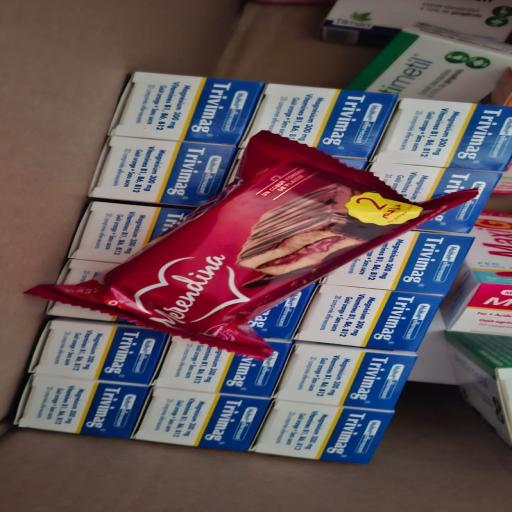merendina: (34, 117, 500, 393)
